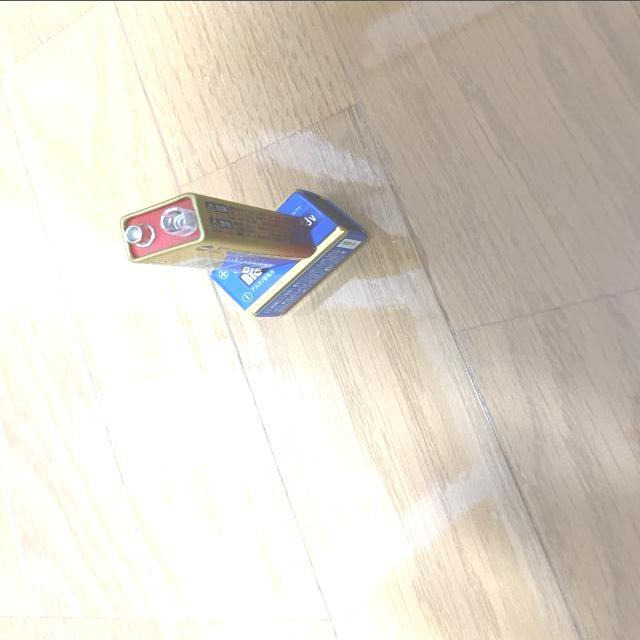9V: (209, 188, 368, 317), (118, 191, 315, 274)
